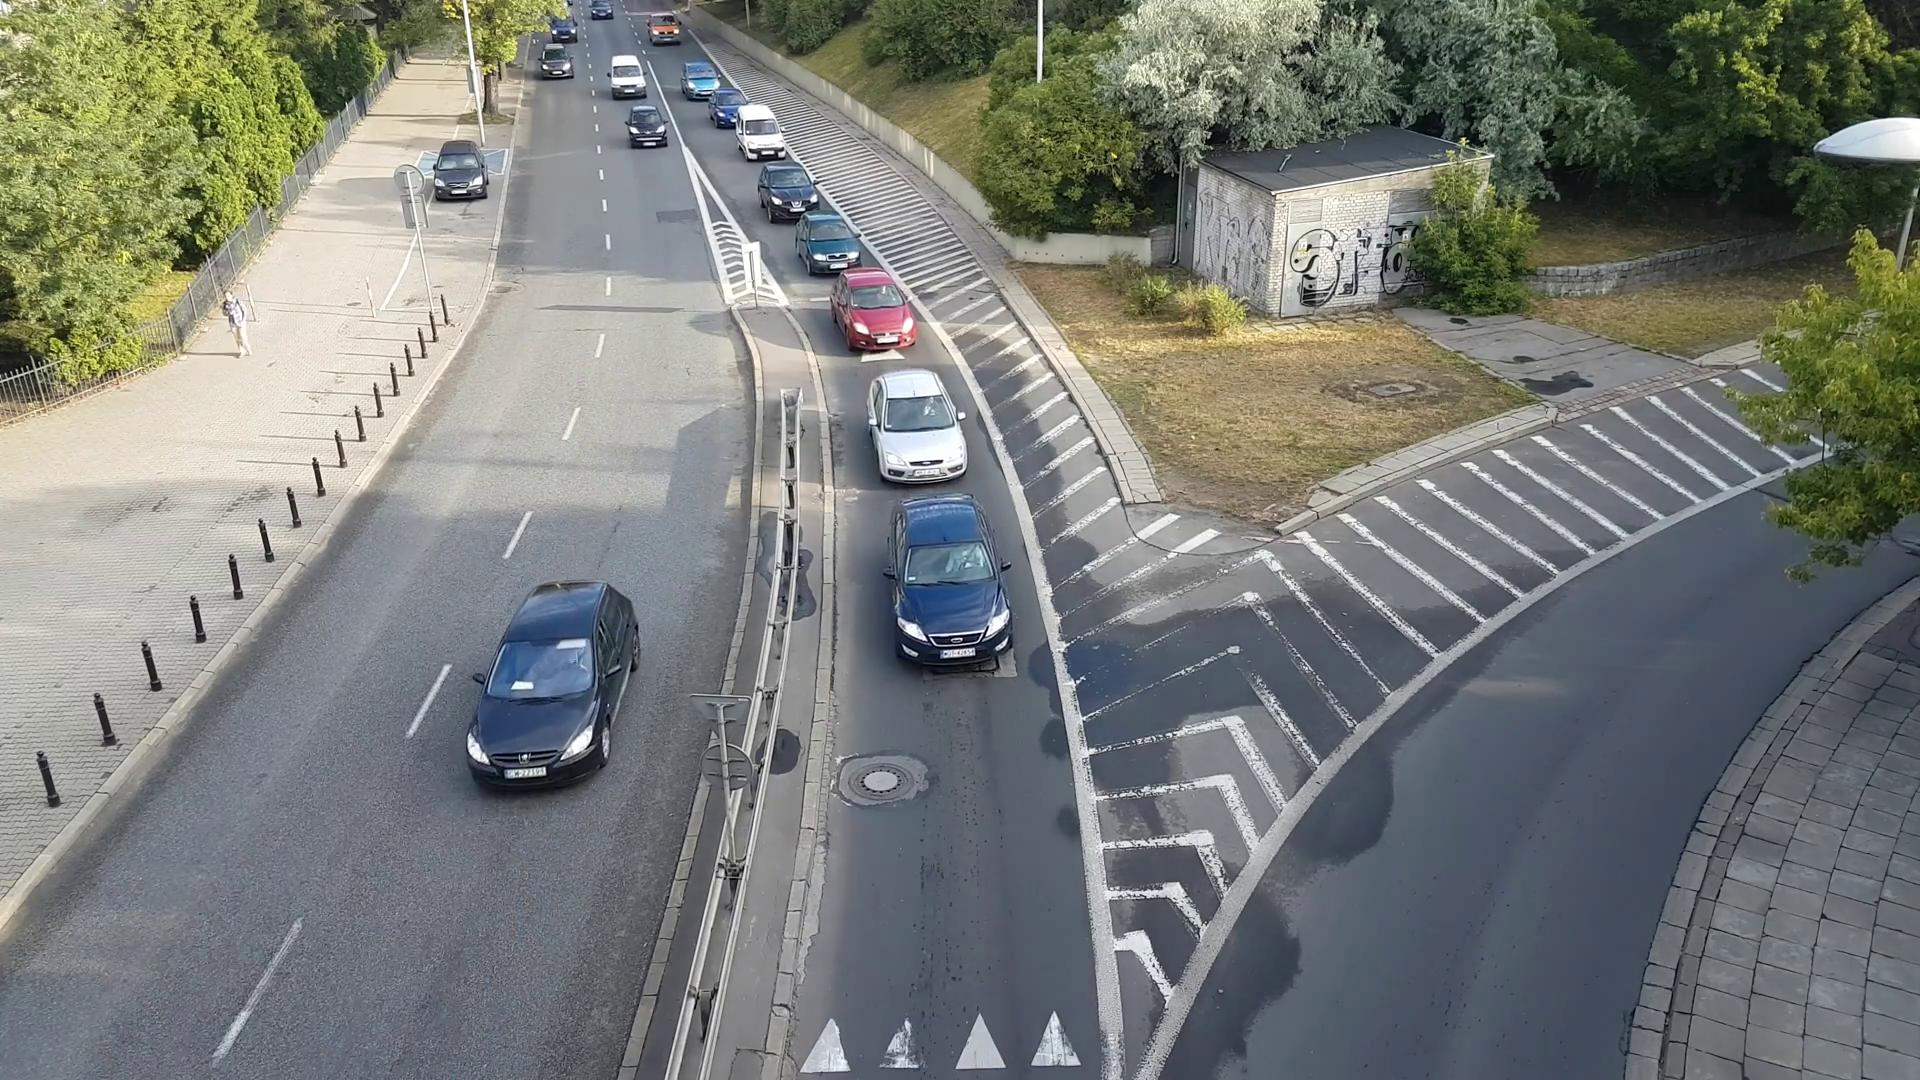car: (458, 568, 647, 794), (878, 484, 1026, 675), (868, 368, 975, 484), (825, 266, 924, 356), (793, 208, 858, 276), (430, 136, 495, 203), (752, 152, 812, 211), (728, 103, 785, 157), (624, 98, 674, 149), (604, 46, 650, 92), (675, 53, 720, 98), (535, 37, 572, 88)
